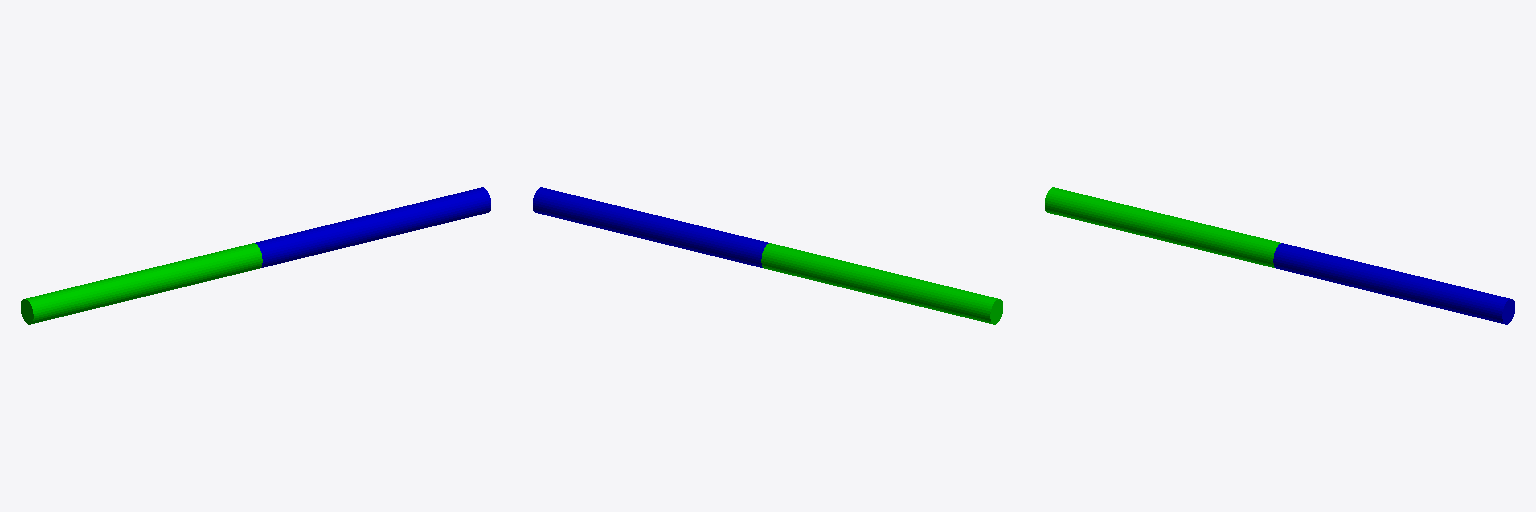
robot.urdf — 2R_robot:
<?xml version="1.0"?>
<robot name="2R_robot">

  <!-- Links -->
  <link name="base_link"/>

  <link name="link_1">
    <visual>
      <geometry>
        <cylinder length="1.0" radius="0.05"/>
      </geometry>
      <!-- Z-up -->
      <!-- <origin xyz="0 0 0.5" rpy="0 0 0"/>  -->
      <origin xyz="0.5 0 0" rpy="0 1.5708 0"/>
      <material name="green">
        <color rgba="0 0.8 0 1"/>
      </material>
    </visual>
  </link>

  <link name="link_2">
    <visual>
      <geometry>
        <cylinder length="1.0" radius="0.05"/>
      </geometry>
      <!-- Z-up  -->
      <!-- <origin xyz="0 0 0.5" rpy="0 0 0"/>     -->
      <origin xyz="0.5 0 0" rpy="0 1.5708 0"/>
      <material name="blue">
        <color rgba="0 0 0.8 1"/>
      </material>
    </visual>
  </link>

  <!-- Joints -->
  <!-- joint_1: base_link -> link_1 — this is ⁰₁T -->
  <joint name="joint_1" type="revolute">
    <parent link="base_link"/>
    <child  link="link_1"/>
    <origin xyz="0 0 0" rpy="0 0 0"/>
    <!-- Z-up  -->
    <!-- <axis xyz="0 1 0"/> -->
    <axis   xyz="0 0 1"/>
    <limit  lower="-3.14159" upper="3.14159" effort="10" velocity="1"/>
  </joint>

  <!-- joint_2: link_1 -> link_2 — this is ¹₂T -->
  <joint name="joint_2" type="revolute">
    <parent link="link_1"/>
    <child  link="link_2"/>
    <!-- Z-up  -->
    <!-- <origin xyz="0 0 1.0" rpy="0 0 0"/> -->
    <origin xyz="1.0 0 0" rpy="0 0 0"/>
    <!-- Z-up  -->
    <!-- <axis xyz="0 1 0"/> -->
    <axis   xyz="0 0 1"/>
    <limit  lower="-3.14159" upper="3.14159" effort="10" velocity="1"/>
  </joint>

</robot>

--- Render facts (derived) ---
3 views of the same robot in one strip: view 1: azimuth 30°, elevation 25°; view 2: azimuth 150°, elevation 25°; view 3: azimuth 330°, elevation 25° (orthographic).
Robot: 2R_robot — 3 links, 2 joints (2 revolute); root link base_link; default pose: all joints at 0.
Visible links, largest first — view 1: link_1, link_2; view 2: link_1, link_2; view 3: link_2, link_1.
Boxes of the visible links, <box> form: link_1: <box>21,243,262,324</box>; link_2: <box>255,187,490,267</box>; link_1: <box>761,243,1002,324</box>; link_2: <box>533,187,768,267</box>; link_2: <box>1273,243,1514,324</box>; link_1: <box>1045,187,1280,267</box>.
Bounding box of the posed robot: 2 × 0.1 × 0.1 m (x, y, z).
Geometry: primitives only (box / cylinder / sphere), no mesh files.
